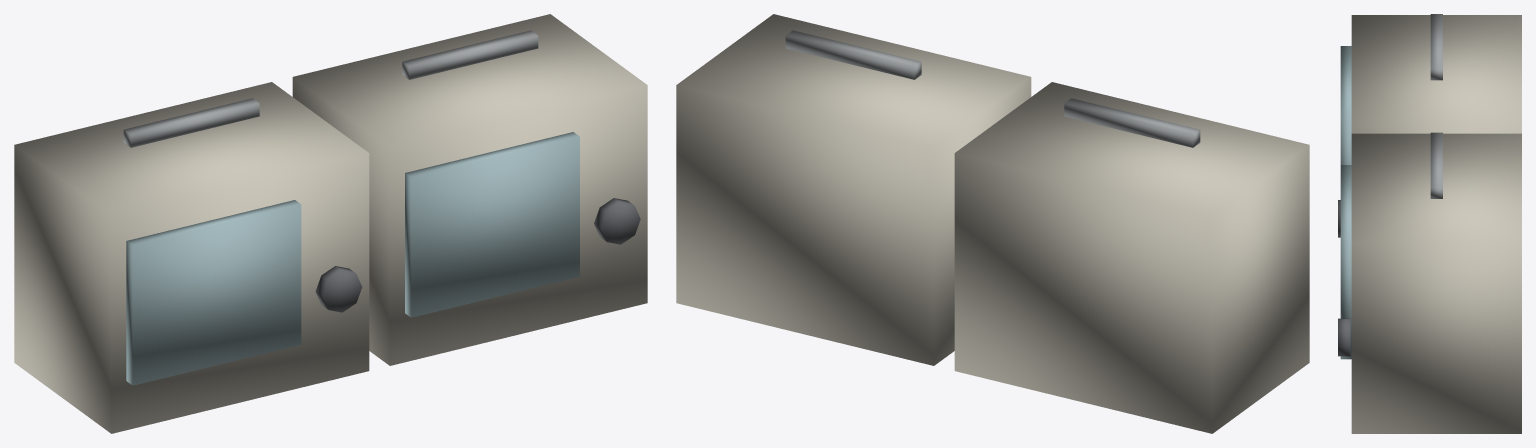
Rendered from portable_television__cluster.glb.
3 renders of one model, left to right at view 1: azimuth 30°, elevation 25°; view 2: azimuth 150°, elevation 25°; view 3: azimuth 270°, elevation 25°, orthographic. The views are drawn at different scales.
Visible parts, largest first — view 1: world; view 2: world; view 3: world.
Boxes of the visible parts, <box> form: world: <box>14,14,647,433</box>; world: <box>676,14,1309,433</box>; world: <box>1338,14,1521,433</box>.
Size of the model in its own units: 1.08 by 0.4825 by 0.3675.
